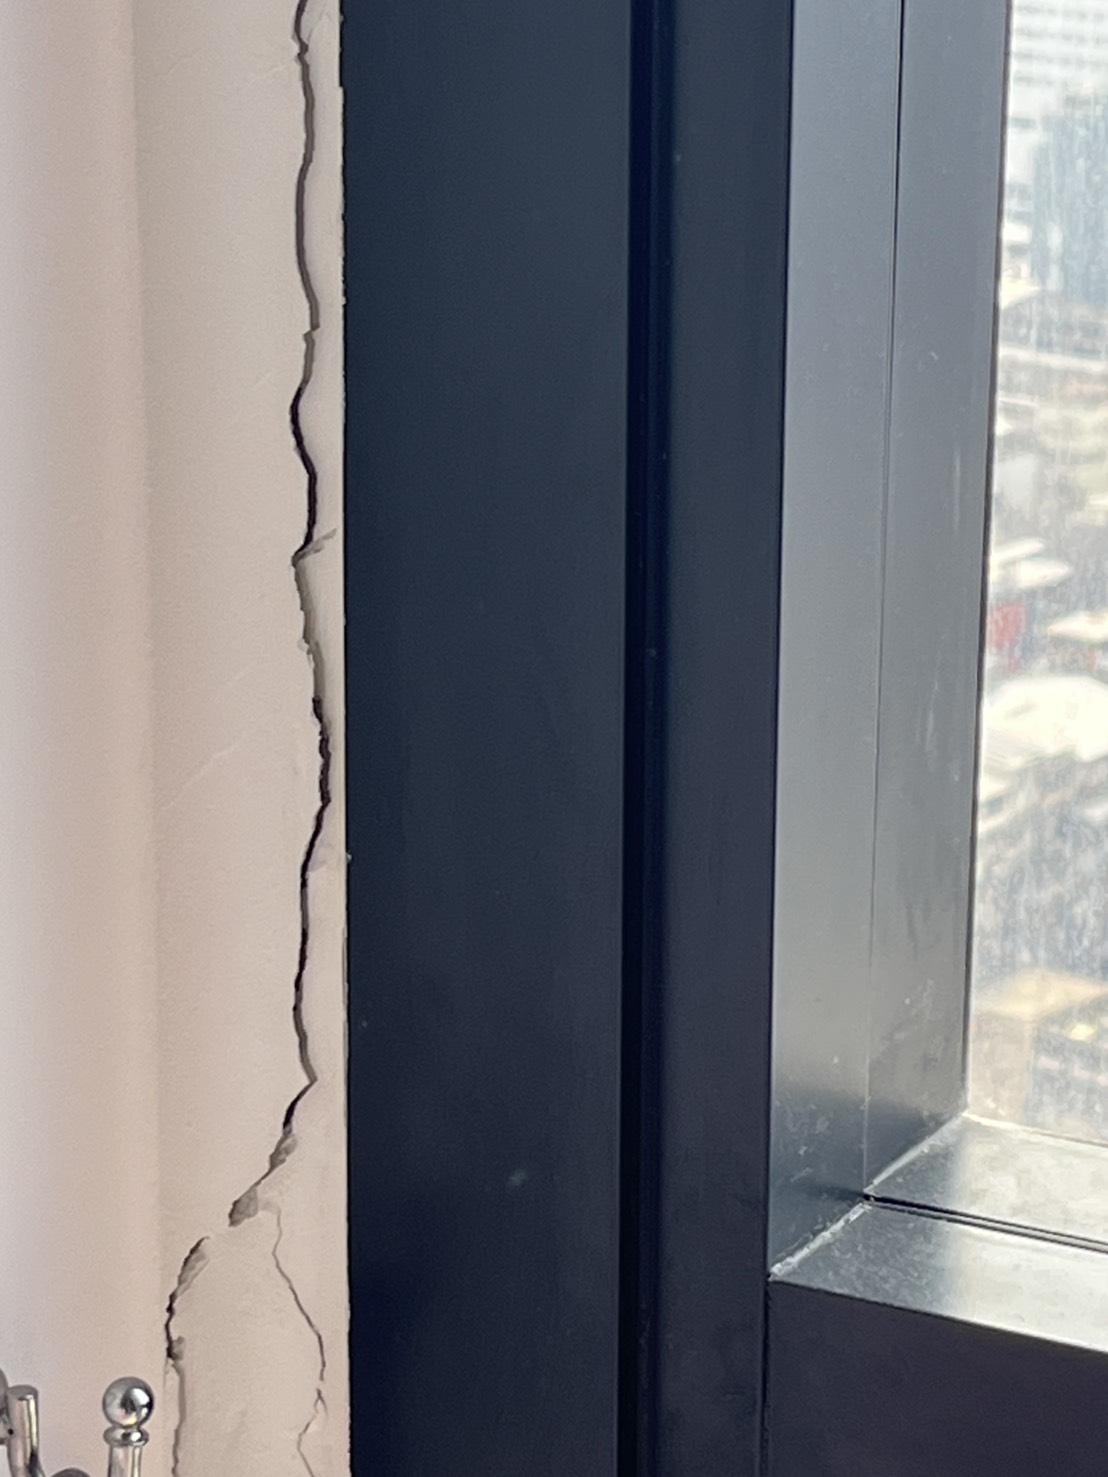Medium: (169, 8, 340, 1248)
